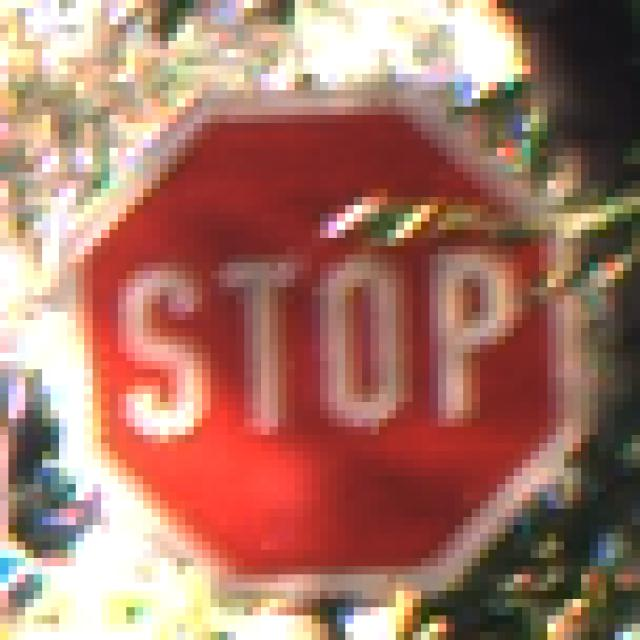STOP: (52, 59, 582, 584)
